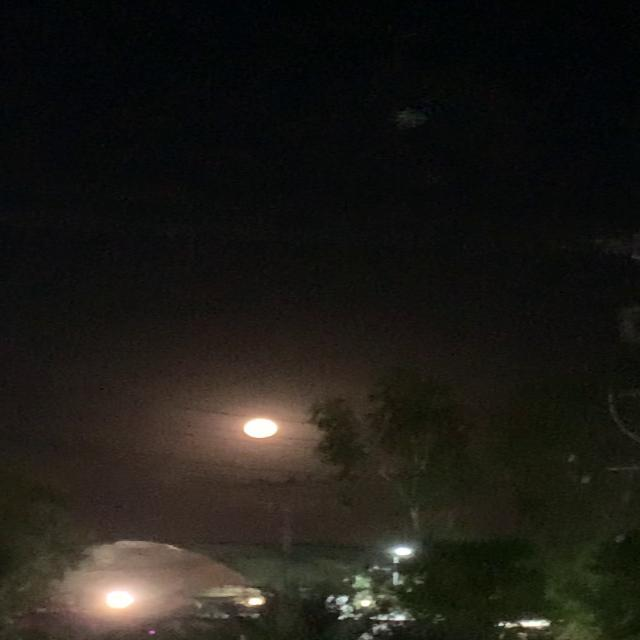moon: (236, 418, 278, 442)
